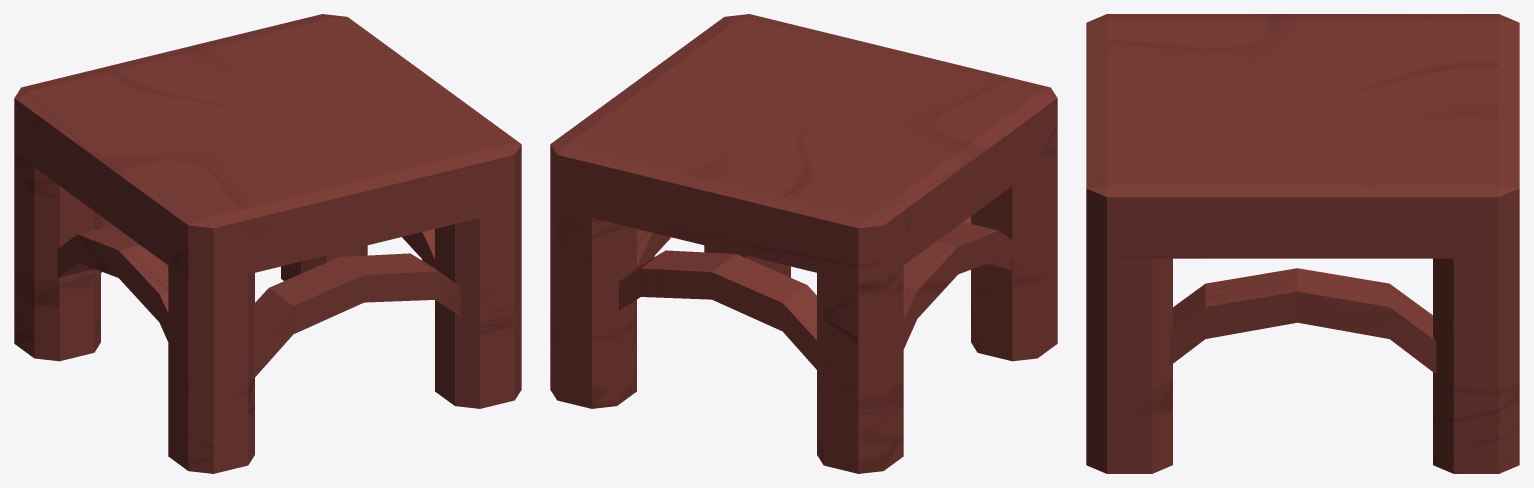
The model's file is tabure.fbx.
The picture shows the model from 3 angles, left to right: view 1: azimuth 30°, elevation 25°; view 2: azimuth 150°, elevation 25°; view 3: azimuth 270°, elevation 25°; orthographic projection. The views are drawn at different scales.
Visible parts, largest first — view 1: sandalye baca.004; view 2: sandalye baca.004; view 3: sandalye baca.004.
Boxes of the visible parts, bbox=[...] form: sandalye baca.004: bbox=[14, 14, 521, 473]; sandalye baca.004: bbox=[550, 14, 1057, 473]; sandalye baca.004: bbox=[1086, 14, 1519, 473].
Bounding box in the file's own units: 588 × 422 × 588.
